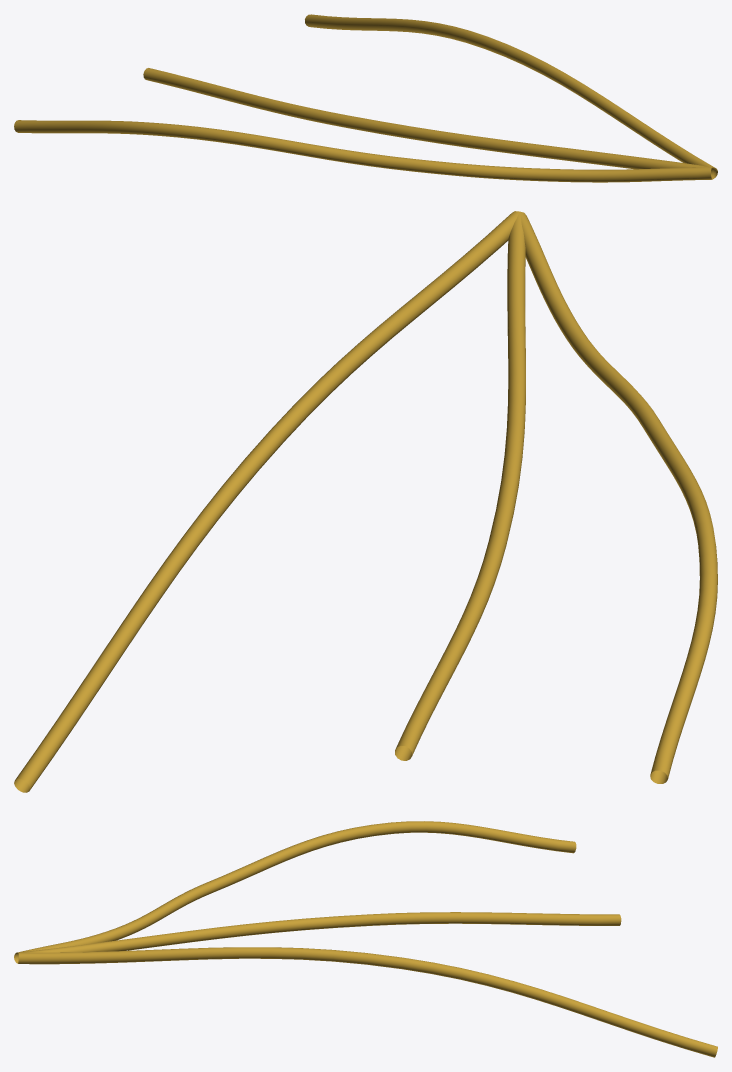
3 views of the same model, one above another, from view 1: azimuth 30°, elevation 25°; view 2: azimuth 150°, elevation 25°; view 3: azimuth 270°, elevation 25° (orthographic). The views are drawn at different scales.
Visible parts, largest first — view 1: 右侧正中神经指掌侧总神经; view 2: 右侧正中神经指掌侧总神经; view 3: 右侧正中神经指掌侧总神经.
Part boxes in pixels (bbox=[...]): 右侧正中神经指掌侧总神经: bbox=[14, 14, 717, 182]; 右侧正中神经指掌侧总神经: bbox=[14, 211, 717, 792]; 右侧正中神经指掌侧总神经: bbox=[14, 821, 717, 1057].
Bounding box in the file's own units: 0.0543 × 0.016 × 0.0874.
